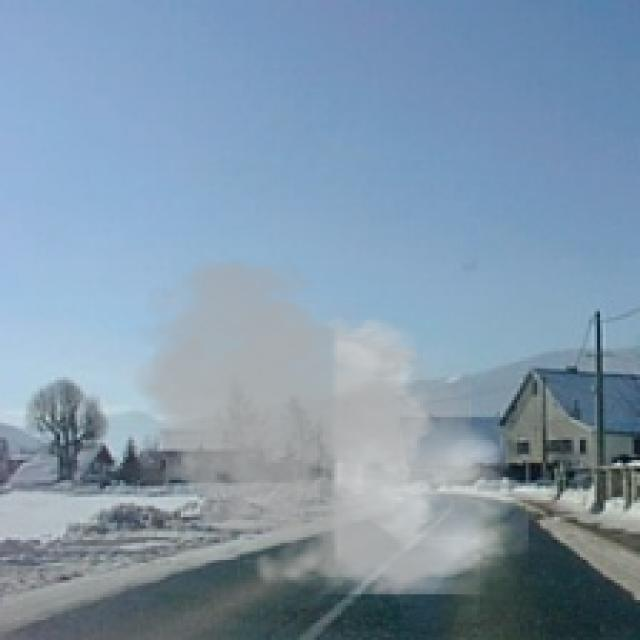smoke: (117, 252, 529, 608)
